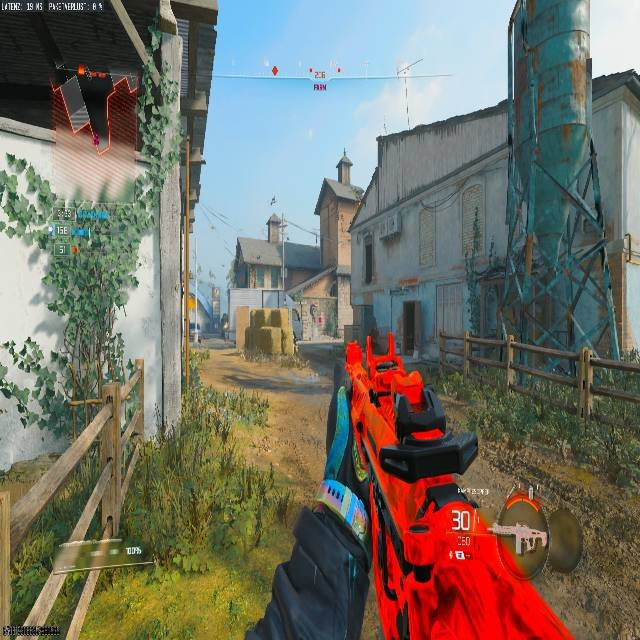player: (221, 314, 230, 341)
